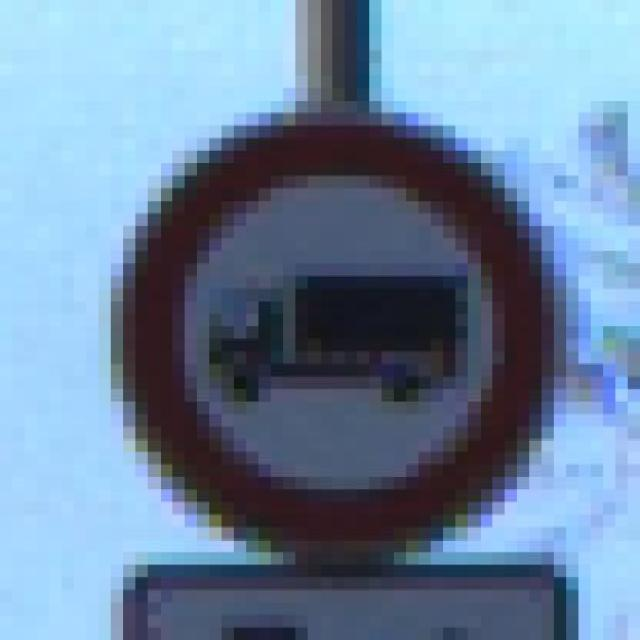Truck traffic is prohibited: (86, 88, 591, 564)
